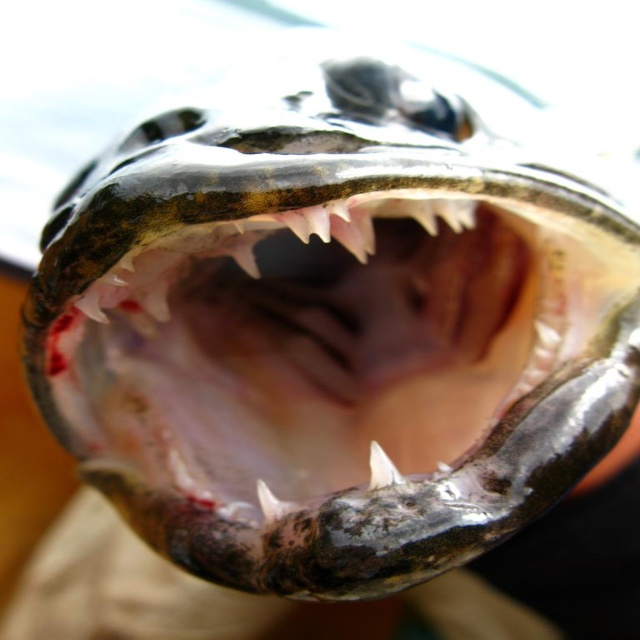Fish: (15, 32, 620, 602)
